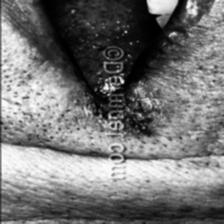Toxin: (81, 87, 154, 136)
